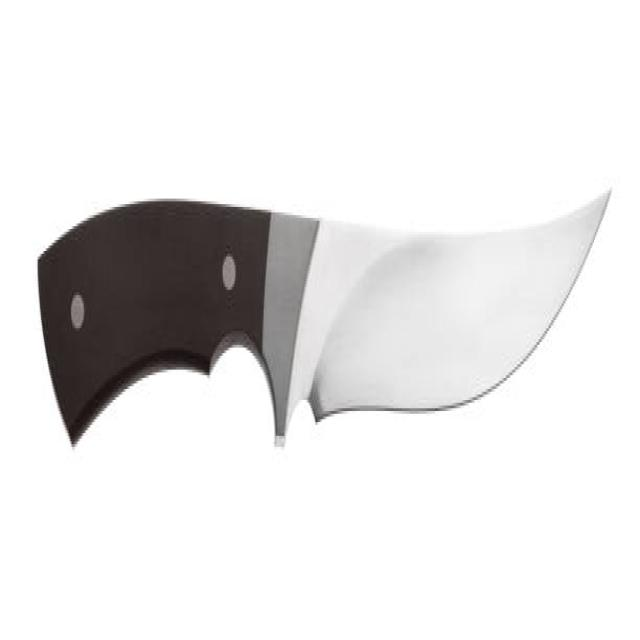knife: (34, 180, 618, 453)
